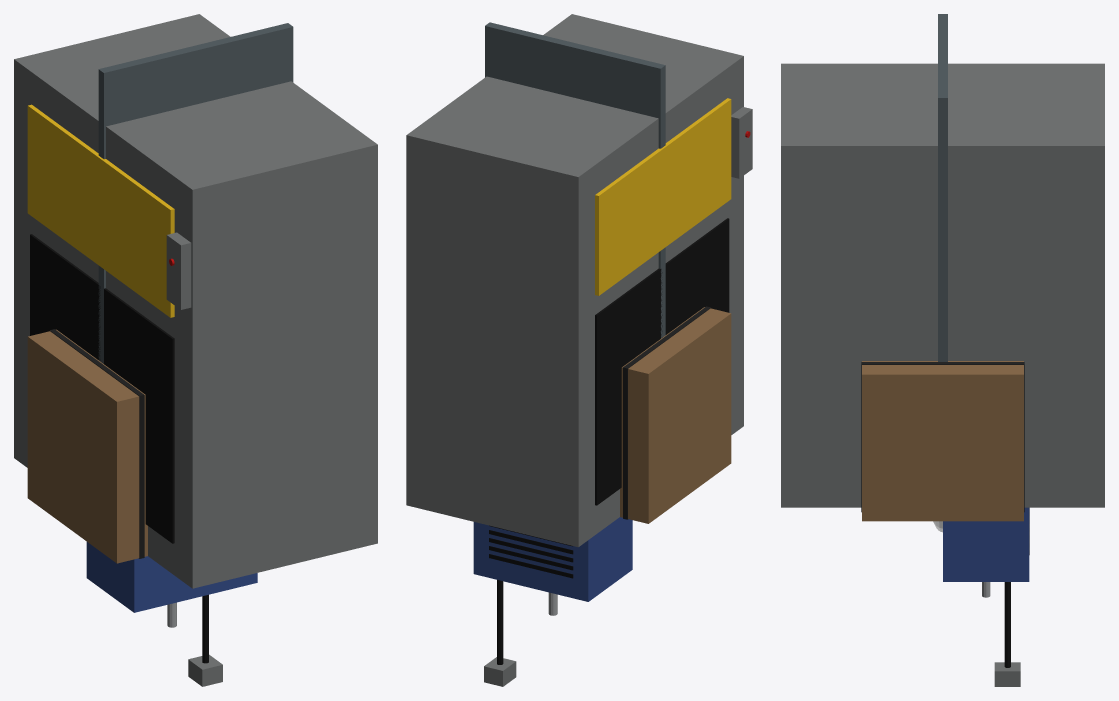
The model's file is shed_kit.glb.
3 views of the same model, side by side, from view 1: azimuth 30°, elevation 25°; view 2: azimuth 150°, elevation 25°; view 3: azimuth 270°, elevation 25° (orthographic). The views are drawn at different scales.
Parts seen in each view (by area): view 1: Baler, Bale, ExitDoor, Charger; view 2: Baler, Bale, ExitDoor, Charger; view 3: Baler, Bale, Charger, ExitDoor.
Part boxes in pixels (x1,y1,x2,y2): Baler: [14, 14, 377, 588]; Bale: [27, 329, 147, 563]; ExitDoor: [98, 23, 293, 363]; Charger: [86, 542, 257, 686]; Baler: [406, 14, 752, 547]; Bale: [620, 306, 731, 523]; ExitDoor: [485, 22, 665, 338]; Charger: [473, 517, 632, 686]; Baler: [781, 63, 1104, 507]; Bale: [861, 361, 1024, 521]; Charger: [943, 507, 1029, 686]; ExitDoor: [938, 14, 947, 361].
Size of the model in its own units: 1.2 by 3.1 by 1.5.
